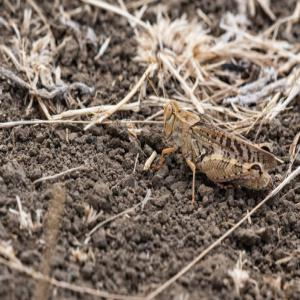locust: (145, 74, 278, 204)
